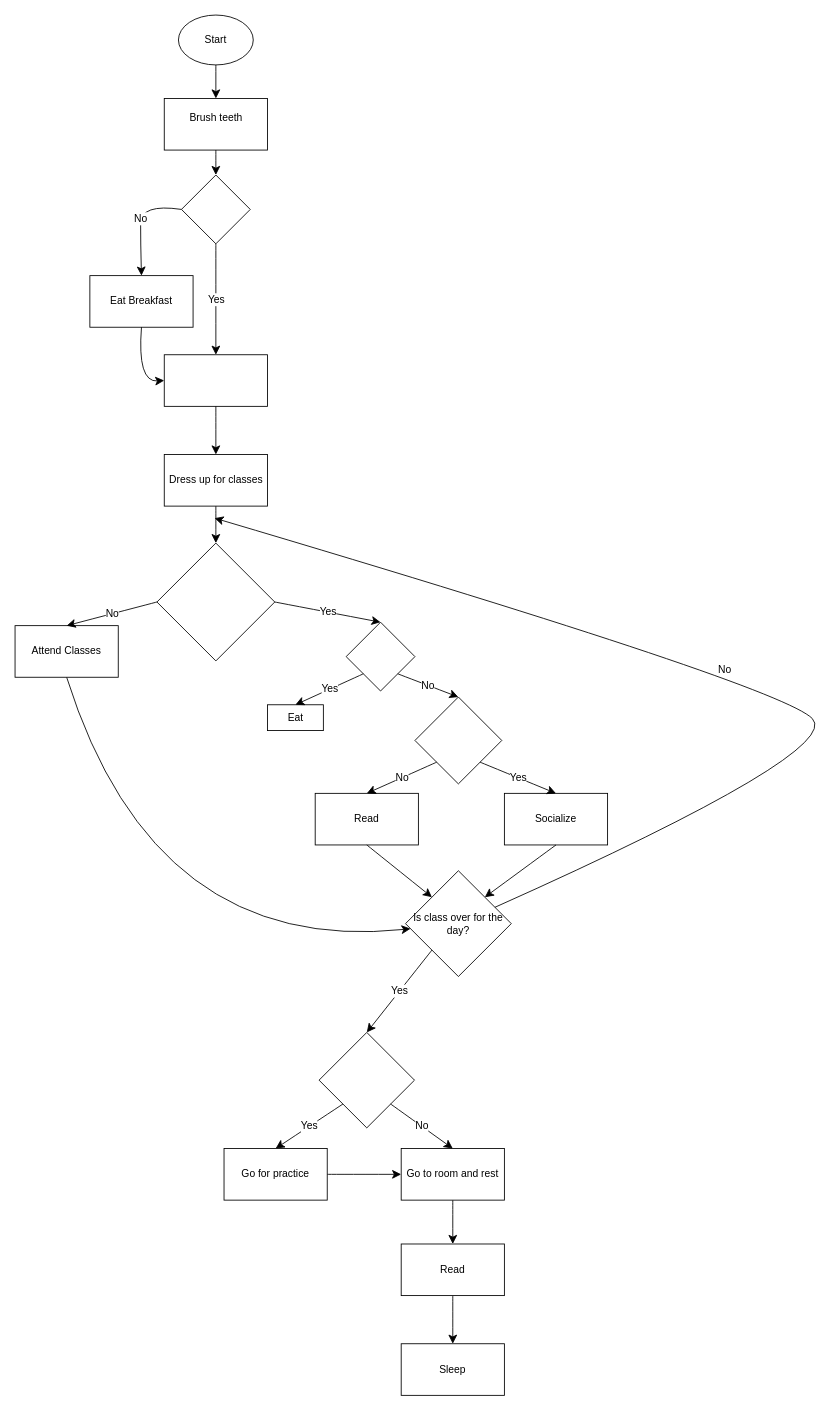
This 831x1410 diagram has some shape labels left out. Here are the shapes that lost their labels. From the top down, the centre of each, then its label:
the point at 215,209: Am I late?
the point at 215,380: Have Bath
the point at 215,601: Do you have a break?
the point at 380,656: Are you hungry?
the point at 458,740: Are you feeling lazy?
the point at 366,1080: Is there volleyball today?
